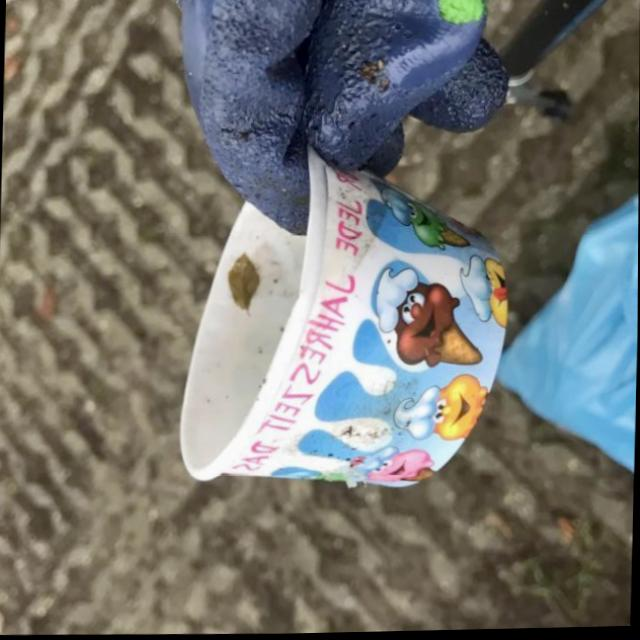Paper: (176, 133, 511, 496)
